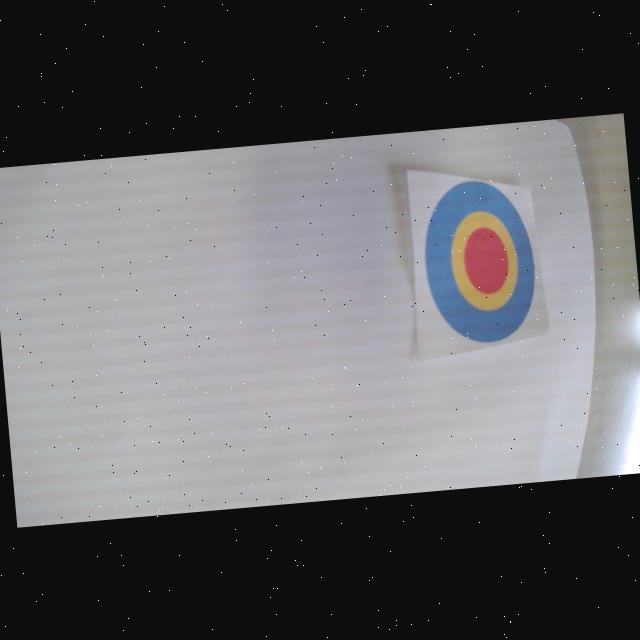COGNITIVE: (418, 175, 541, 348)
